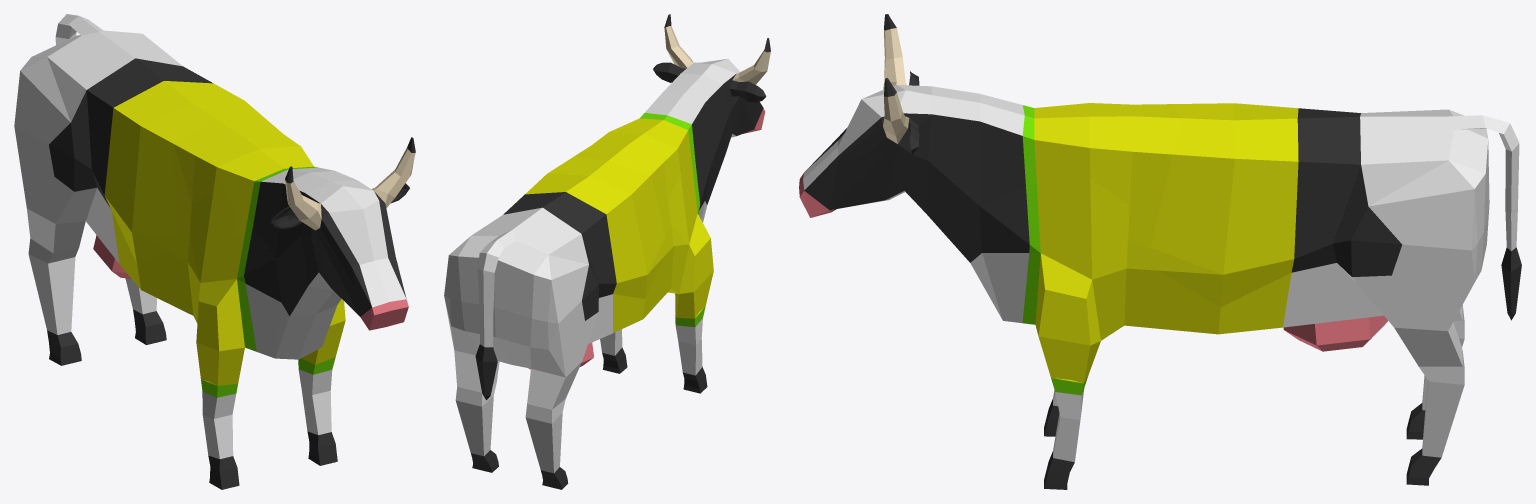
File: Vaca.fbx
The picture shows the model from 3 angles, left to right: view 1: azimuth 30°, elevation 25°; view 2: azimuth 150°, elevation 25°; view 3: azimuth 270°, elevation 25°; orthographic projection. The views are drawn at different scales.
Parts seen in each view (by area): view 1: Vaca; view 2: Vaca; view 3: Vaca.
Part boxes in pixels (box(x1,y1,x2,y2)): Vaca: box(14, 14, 415, 489); Vaca: box(444, 14, 770, 489); Vaca: box(799, 14, 1521, 489).
Bounding box in the file's own units: 225 × 577 × 917.
